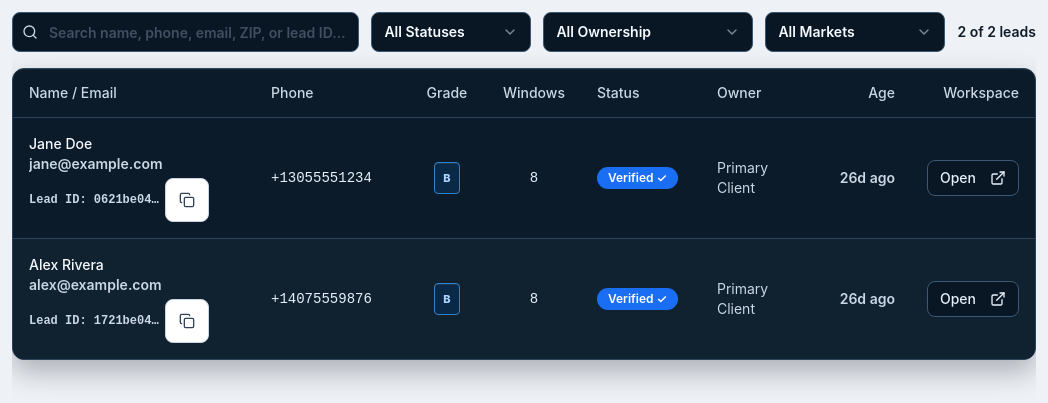
Test case: ActivePipeline lead search and links › searches live leads by Jane Doe
Type "Jane Doe" into the field named "Search pipeline leads" at (186,32), box [12, 12, 359, 52]
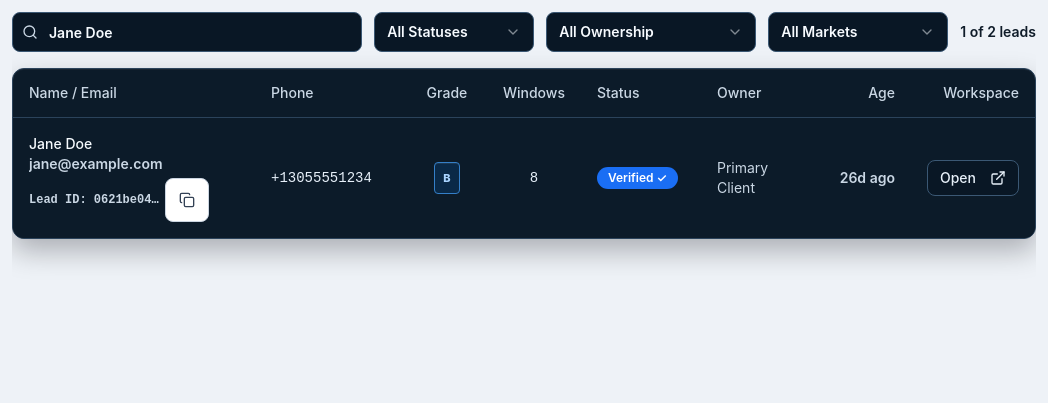
Check: the text "Jane Doe" is shown, box [29, 134, 92, 152]
Check: the text "Alex Rivera" is gone
